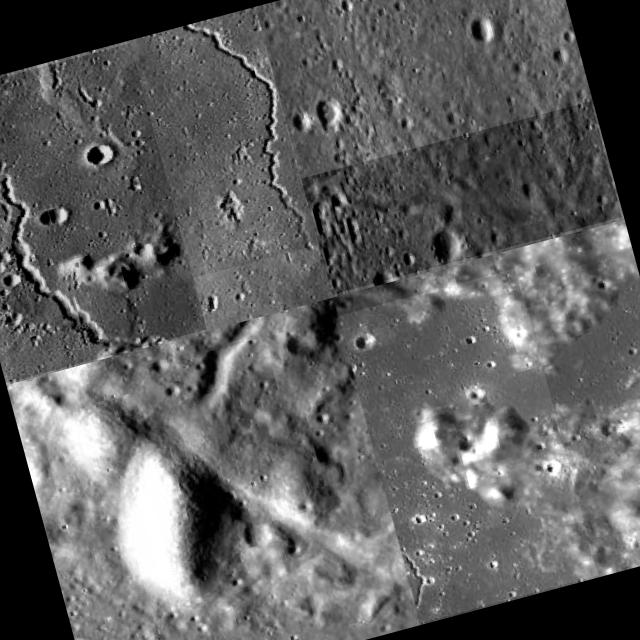rille: (29, 300, 390, 640), (338, 268, 598, 622), (0, 43, 206, 382), (301, 100, 622, 294), (129, 6, 317, 278), (150, 312, 294, 421)
